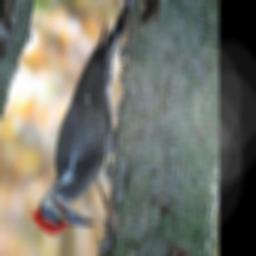Woodpecker: (30, 0, 131, 236)
